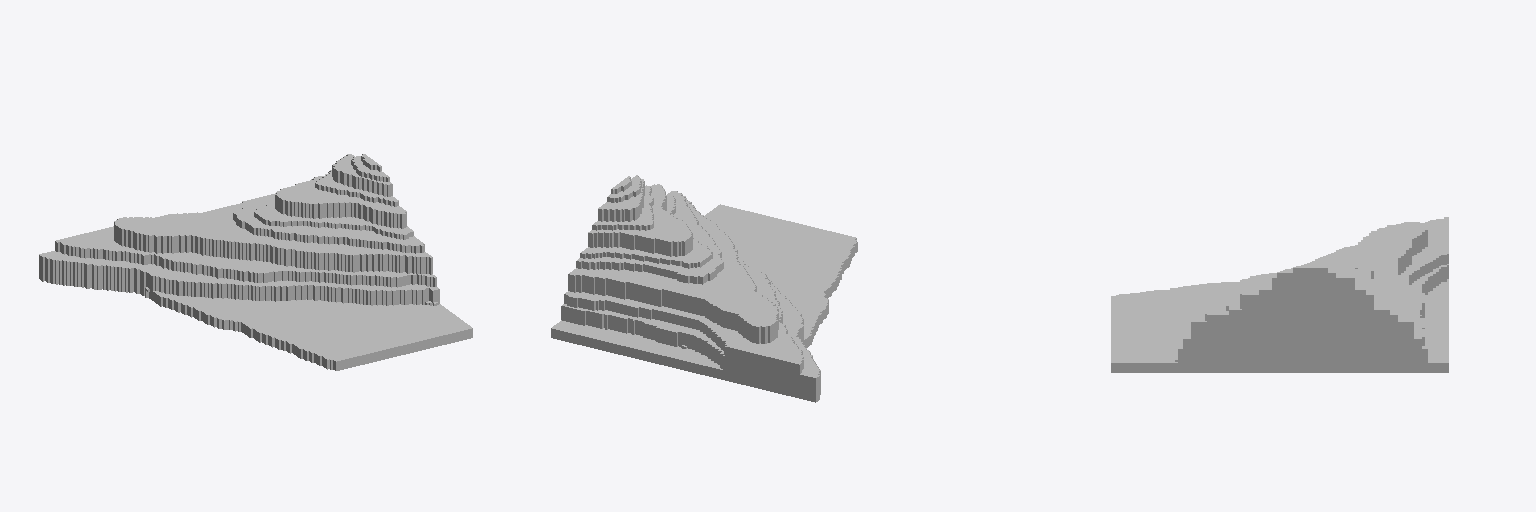
The model's file is Main Island-27.obj.
3 renders of one model, left to right at view 1: azimuth 30°, elevation 25°; view 2: azimuth 150°, elevation 25°; view 3: azimuth 270°, elevation 25°, orthographic.
Parts seen in each view (by area): view 1: Main Island-9; view 2: Main Island-9; view 3: Main Island-9.
Part boxes in pixels (x1,y1,x2,y2): Main Island-9: (39, 154, 472, 370); Main Island-9: (551, 175, 857, 402); Main Island-9: (1111, 217, 1448, 372).
Size of the model in its own units: 114 by 43 by 126.